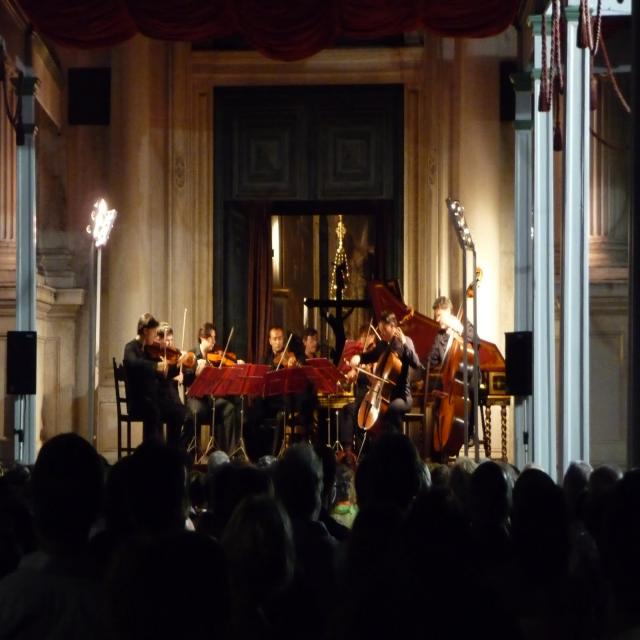cello: (357, 306, 417, 441)
violin: (136, 338, 196, 375), (207, 345, 239, 373), (272, 345, 300, 375)
